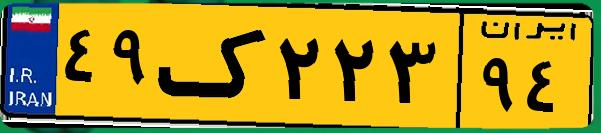2: (270, 28, 330, 110), (330, 28, 385, 110)
3: (385, 28, 445, 110)
4: (57, 26, 110, 100), (525, 38, 570, 115)
9: (475, 38, 525, 113), (110, 28, 158, 98)
ک: (158, 12, 270, 120)
